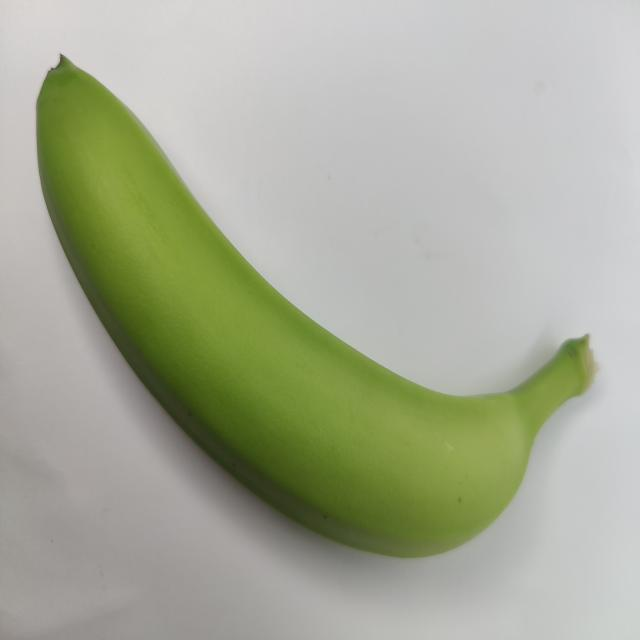raw: (27, 32, 606, 564)
